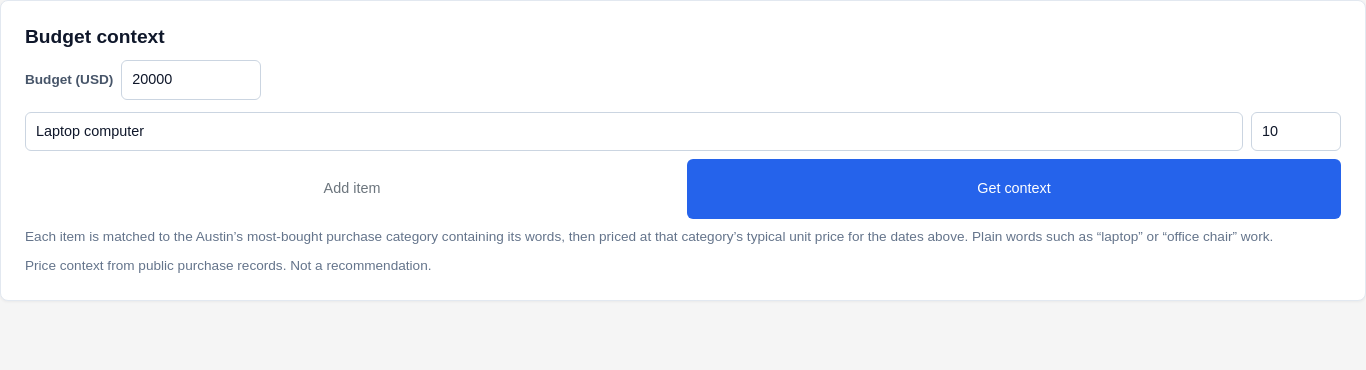
Test: BudgetContextPanel › shows the data service error message
Click the button "Get context": (1014,189) [687,159,1341,219]
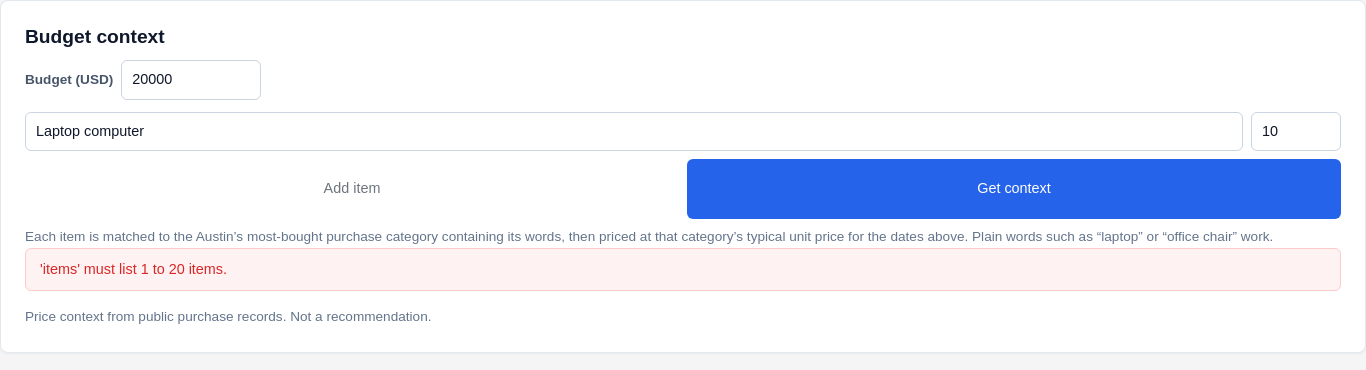
Expected: the message reads "'items' must list 1 to 20 items.", [40,261,227,277]
